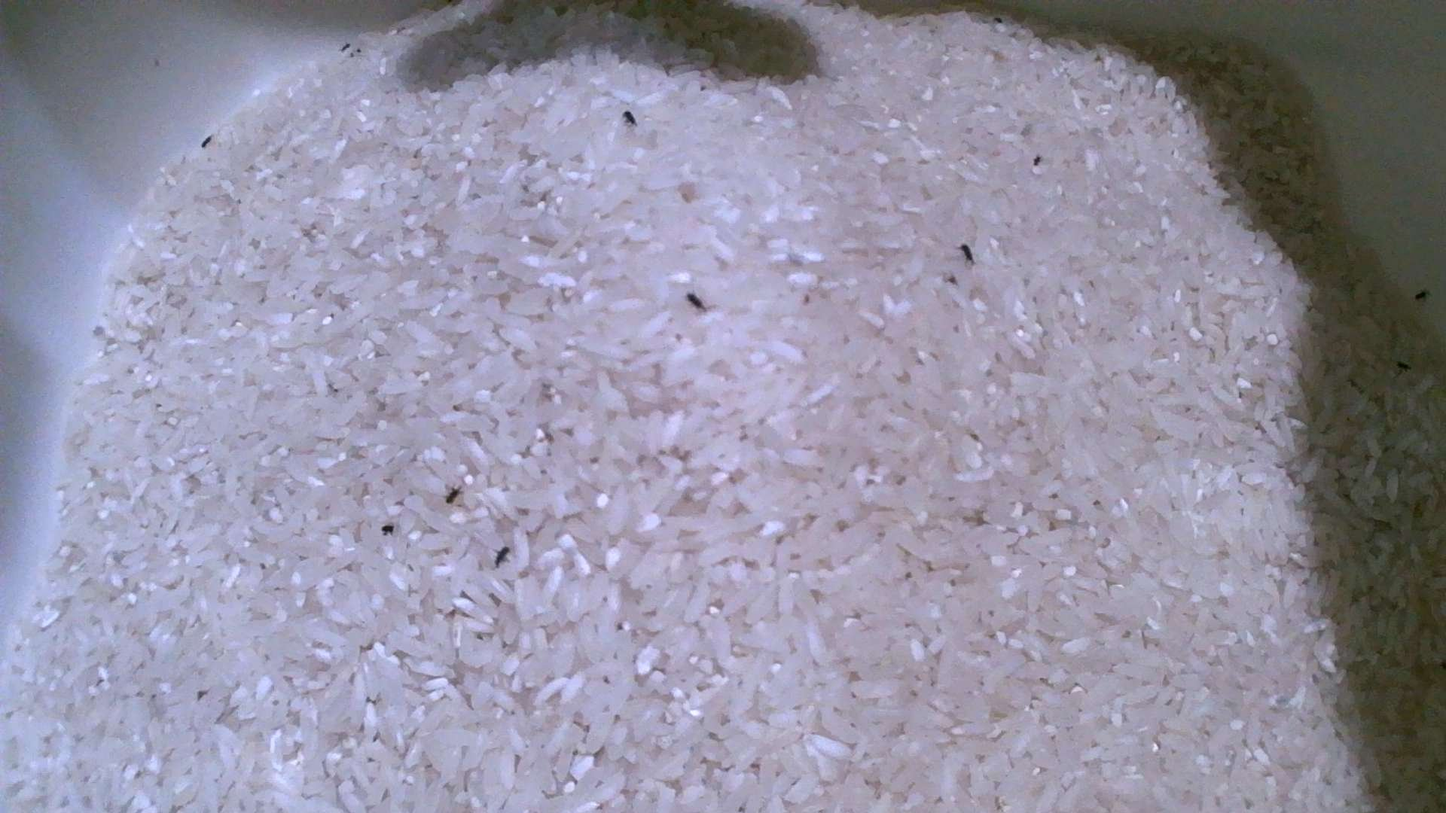Sitophilus-Oryzae: (494, 546, 510, 566), (687, 293, 705, 309), (959, 243, 973, 263), (445, 488, 461, 504), (623, 111, 636, 125), (1414, 289, 1429, 300)
